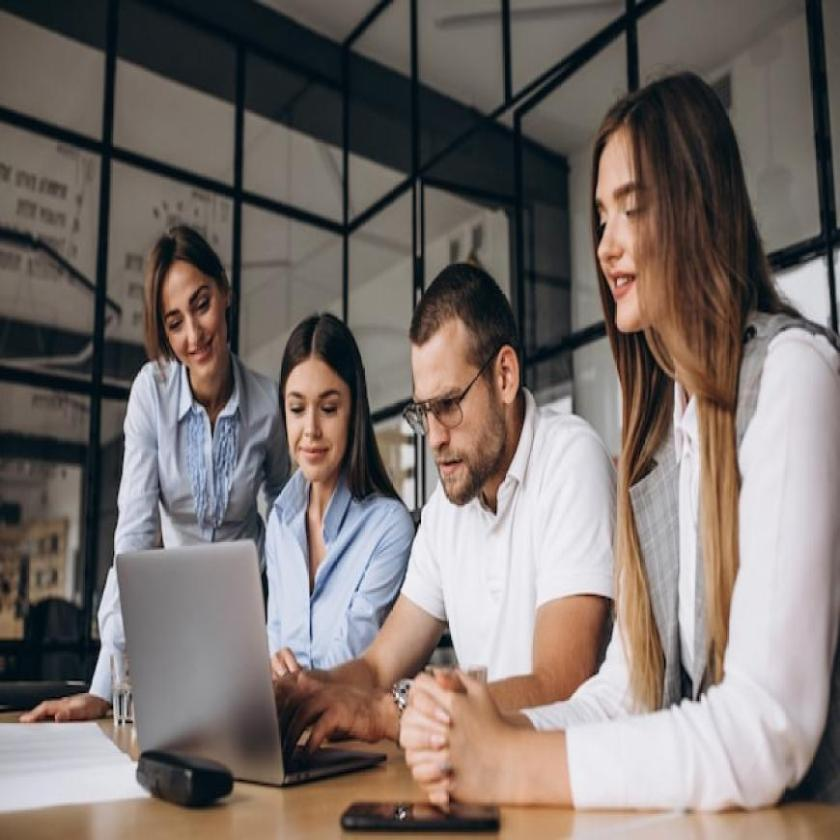Sin_casco: (584, 66, 742, 350), (404, 258, 523, 507), (276, 299, 371, 494), (145, 221, 239, 413)
